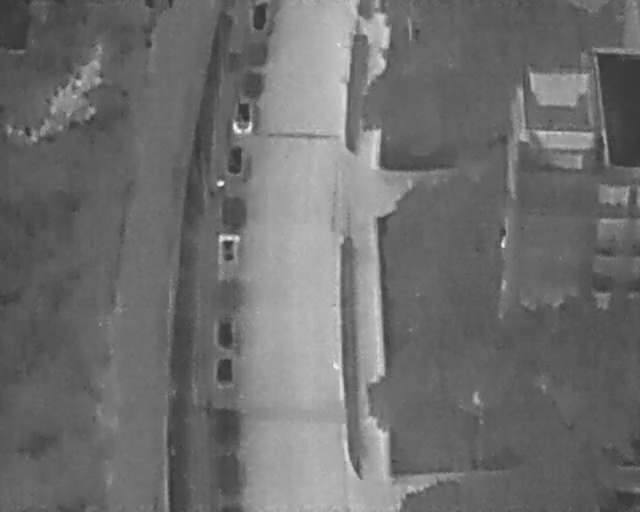Car: (218, 233, 240, 265), (233, 98, 253, 133), (225, 145, 244, 174), (216, 357, 233, 386), (251, 3, 267, 31), (217, 321, 233, 348)
